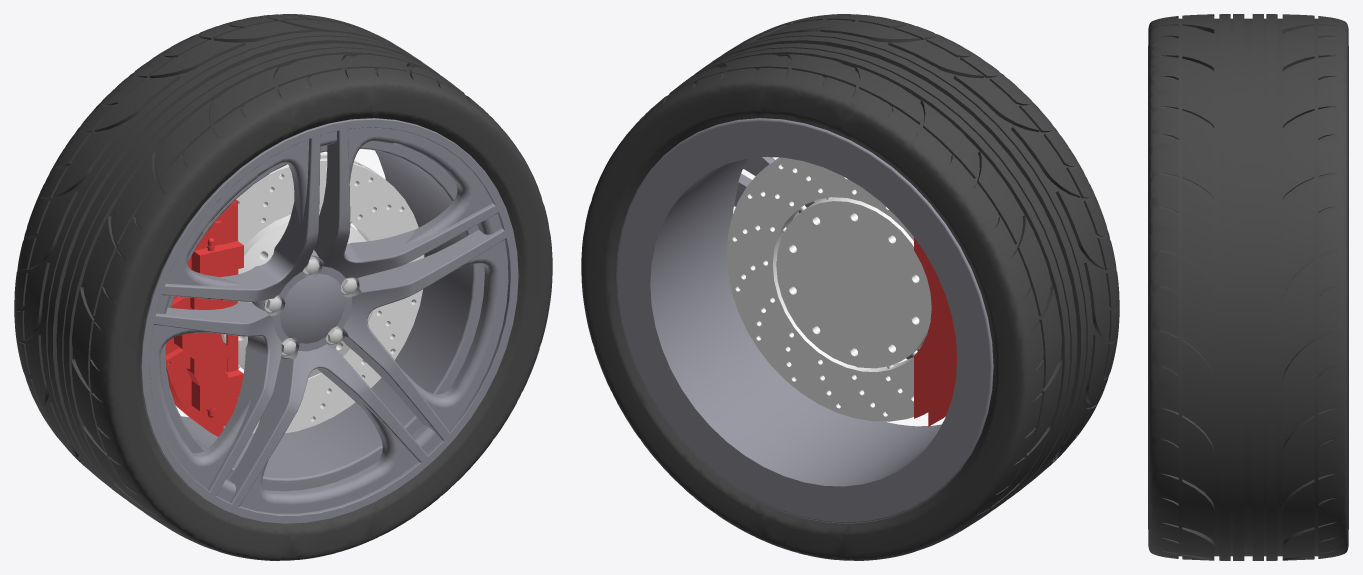
The model's file is R8Wheel.fbx.
The picture shows the model from 3 angles, left to right: view 1: azimuth 30°, elevation 25°; view 2: azimuth 150°, elevation 25°; view 3: azimuth 270°, elevation 25°; orthographic projection. The views are drawn at different scales.
Parts seen in each view (by area): view 1: Tire_Front_Tire, Wheel_Front_Wheel, Disk, Brake; view 2: Tire_Front_Tire, Wheel_Front_Wheel, Disk, Brake; view 3: Tire_Front_Tire.
Boxes of the visible parts, x1,y1,x2,y2 form: Tire_Front_Tire: (14, 14, 552, 560); Wheel_Front_Wheel: (140, 118, 518, 524); Disk: (221, 153, 424, 433); Brake: (165, 199, 243, 436); Tire_Front_Tire: (581, 14, 1119, 560); Wheel_Front_Wheel: (616, 118, 993, 523); Disk: (726, 157, 931, 421); Brake: (914, 237, 956, 426); Tire_Front_Tire: (1148, 14, 1348, 560).
Bounding box in the file's own units: 64.51 × 64.58 × 23.71.
